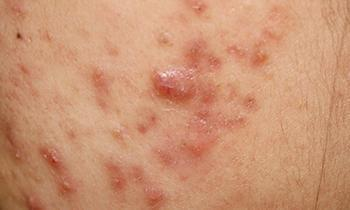blackhead: (175, 134, 194, 159)
purulent: (17, 192, 45, 210), (11, 148, 26, 172)
sebo-crystan-conglo: (142, 63, 198, 104)
